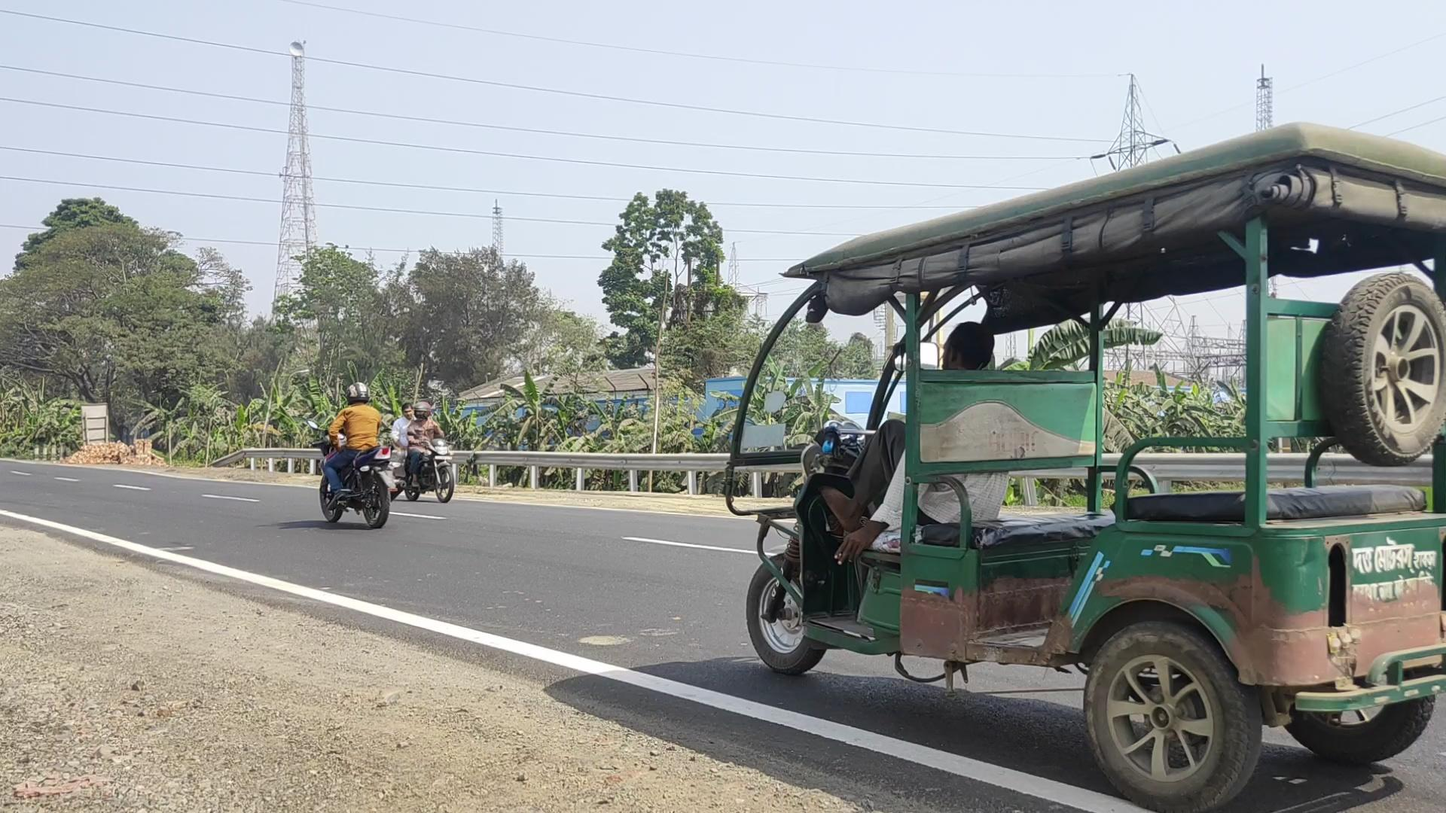Auto: (725, 120, 1446, 813)
bike: (307, 382, 406, 530), (391, 401, 457, 503)
